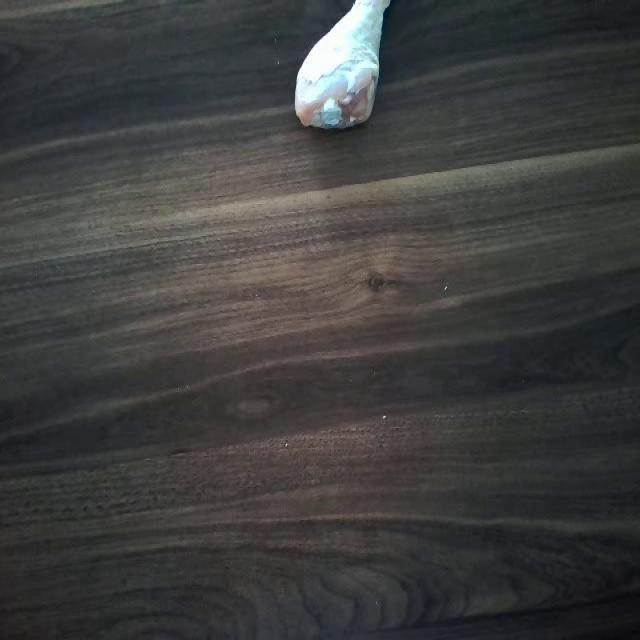leg: (284, 2, 396, 128)
